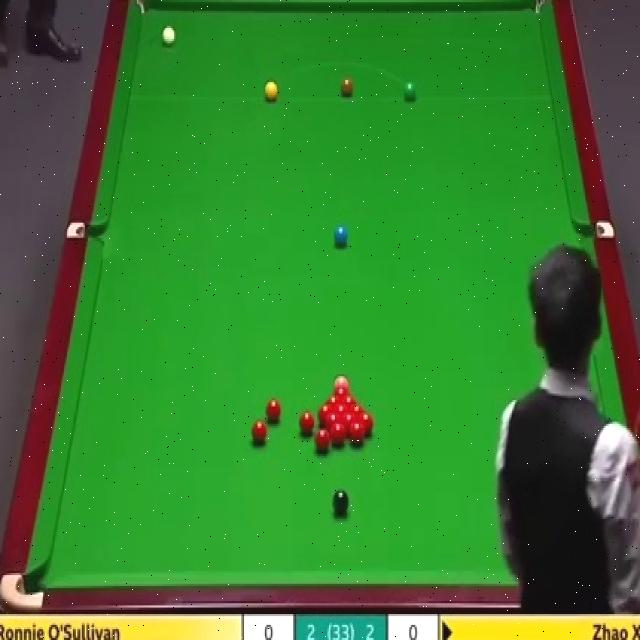black-ball: (331, 487, 348, 514)
blue-ball: (334, 226, 348, 244)
brown-ball: (341, 78, 353, 98)
green-ball: (402, 78, 418, 102)
pink-ball: (334, 376, 350, 391)
red-ball: (314, 426, 333, 451), (251, 419, 267, 444), (355, 411, 372, 434), (265, 398, 282, 421), (333, 420, 349, 444), (298, 413, 316, 434), (349, 425, 364, 448), (342, 413, 357, 435), (319, 403, 332, 416), (335, 388, 346, 401), (336, 404, 346, 418)
white-ball: (162, 26, 175, 46)
yellow-ball: (264, 80, 278, 102)
